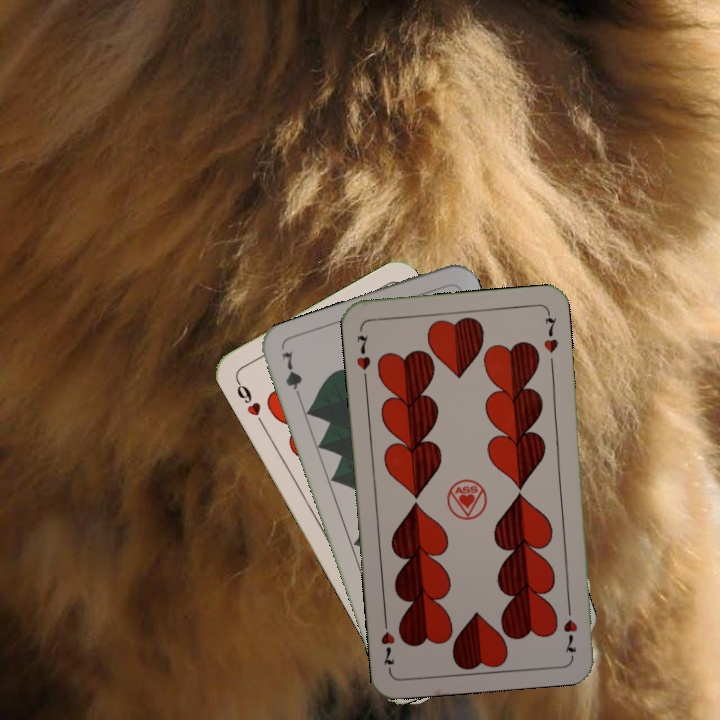G7: (277, 346, 305, 405)
H7: (560, 599, 580, 658), (352, 331, 373, 384)
H9: (232, 376, 267, 430)
